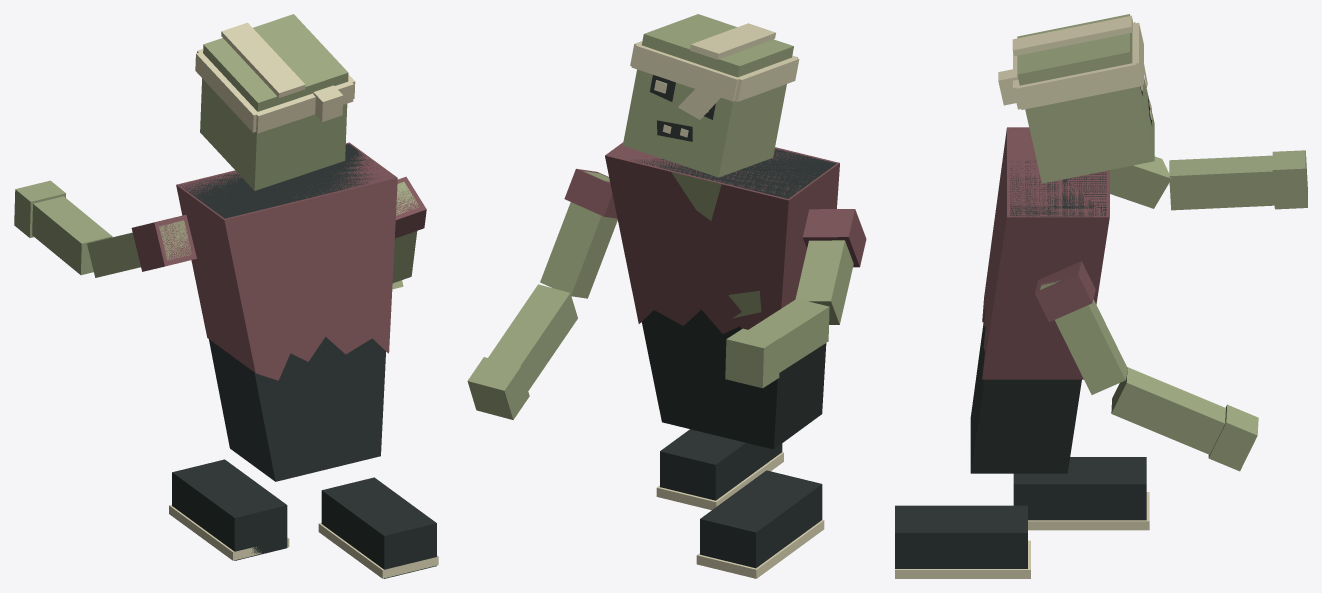
File: zombie_runner.glb
3 renders of one model, left to right at view 1: azimuth 30°, elevation 25°; view 2: azimuth 150°, elevation 25°; view 3: azimuth 270°, elevation 25°, orthographic. The views are drawn at different scales.
Parts seen in each view (by area): view 1: body, head, ShoeRight, ShoeLeft, handLeft, armLeft, armRight; view 2: body, head, ShoeLeft, handRight, ShoeRight, armRight, handLeft, armLeft; view 3: body, head, ShoeRight, ShoeLeft, handRight, handLeft, armRight, armLeft.
Part boxes in pixels (<box>): body: <box>176,142,397,481</box>; head: <box>195,14,355,190</box>; ShoeRight: <box>318,477,438,578</box>; ShoeLeft: <box>169,459,289,560</box>; handLeft: <box>14,180,112,275</box>; armLeft: <box>87,215,196,277</box>; armRight: <box>392,176,426,283</box>; body: <box>605,142,839,449</box>; head: <box>622,14,799,177</box>; ShoeLeft: <box>696,470,824,578</box>; handRight: <box>467,284,577,419</box>; ShoeRight: <box>656,429,783,510</box>; armRight: <box>540,168,617,298</box>; handLeft: <box>725,298,829,388</box>; armLeft: <box>795,209,866,324</box>; body: <box>970,127,1109,473</box>; head: <box>998,14,1154,183</box>; ShoeRight: <box>895,505,1030,578</box>; ShoeLeft: <box>1013,457,1149,530</box>; handRight: <box>1111,367,1258,471</box>; handLeft: <box>1169,150,1307,210</box>; armRight: <box>1035,261,1127,394</box>; armLeft: <box>1110,156,1171,208</box>.
Size of the model in its own units: 1.03 by 1.57 by 1.15.
